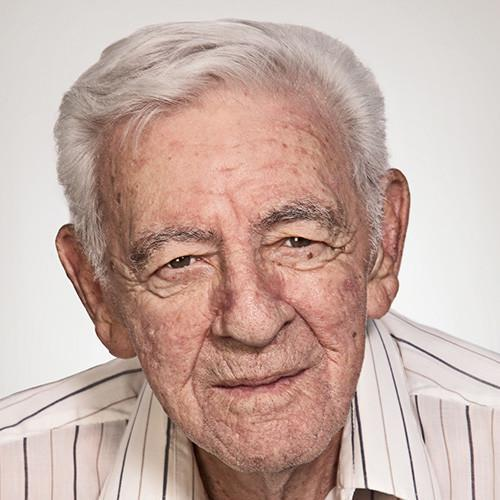Sober: (90, 111, 370, 469)
